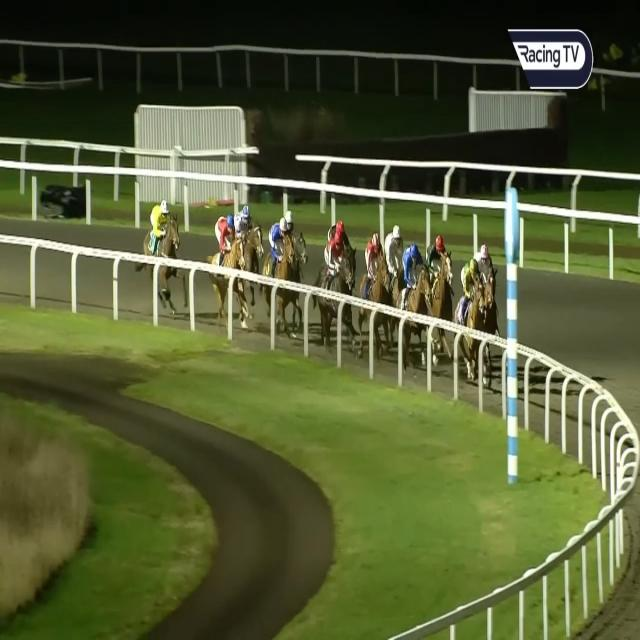horses-racing: (421, 233, 460, 331), (460, 259, 490, 383), (399, 246, 434, 352), (145, 200, 184, 291), (205, 213, 250, 289), (470, 232, 501, 338), (325, 233, 355, 333), (228, 204, 266, 278), (263, 220, 298, 300), (365, 229, 385, 333), (282, 208, 312, 274), (383, 227, 406, 305), (329, 219, 356, 264)
